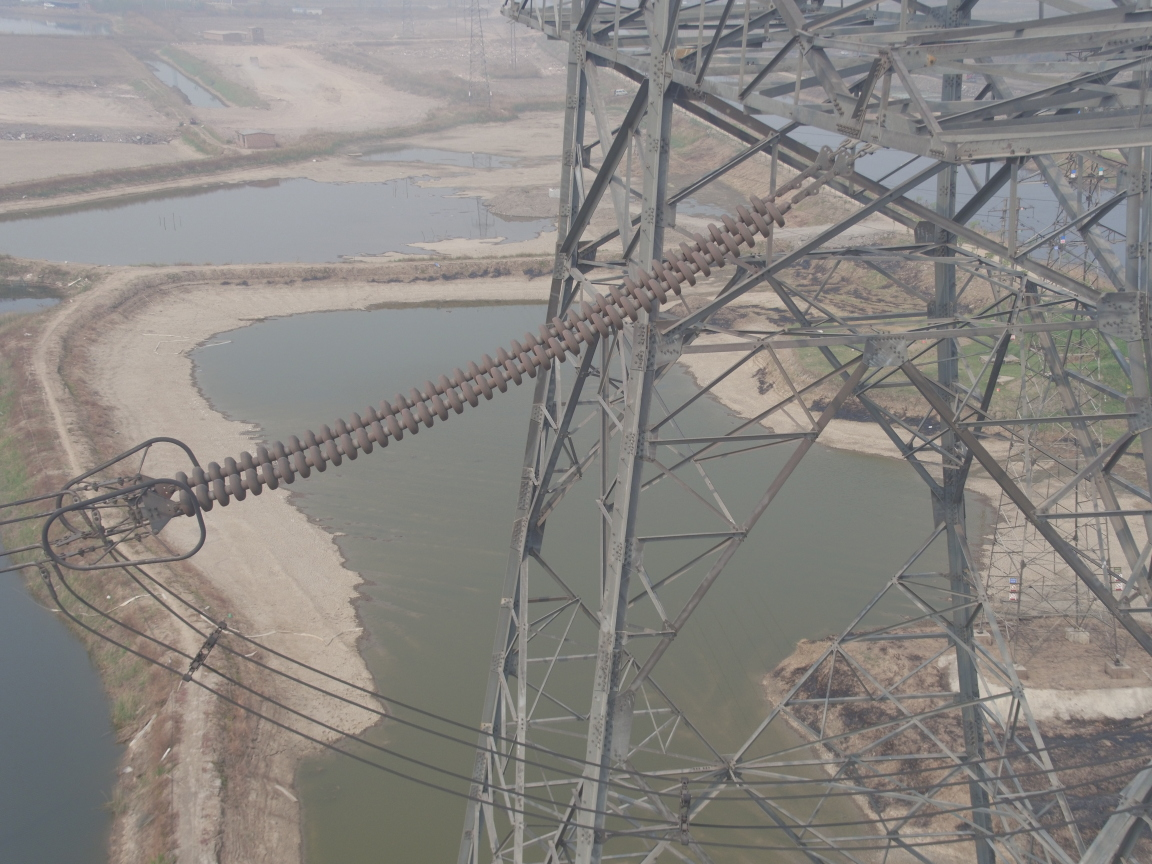insulator: (162, 181, 802, 523)
